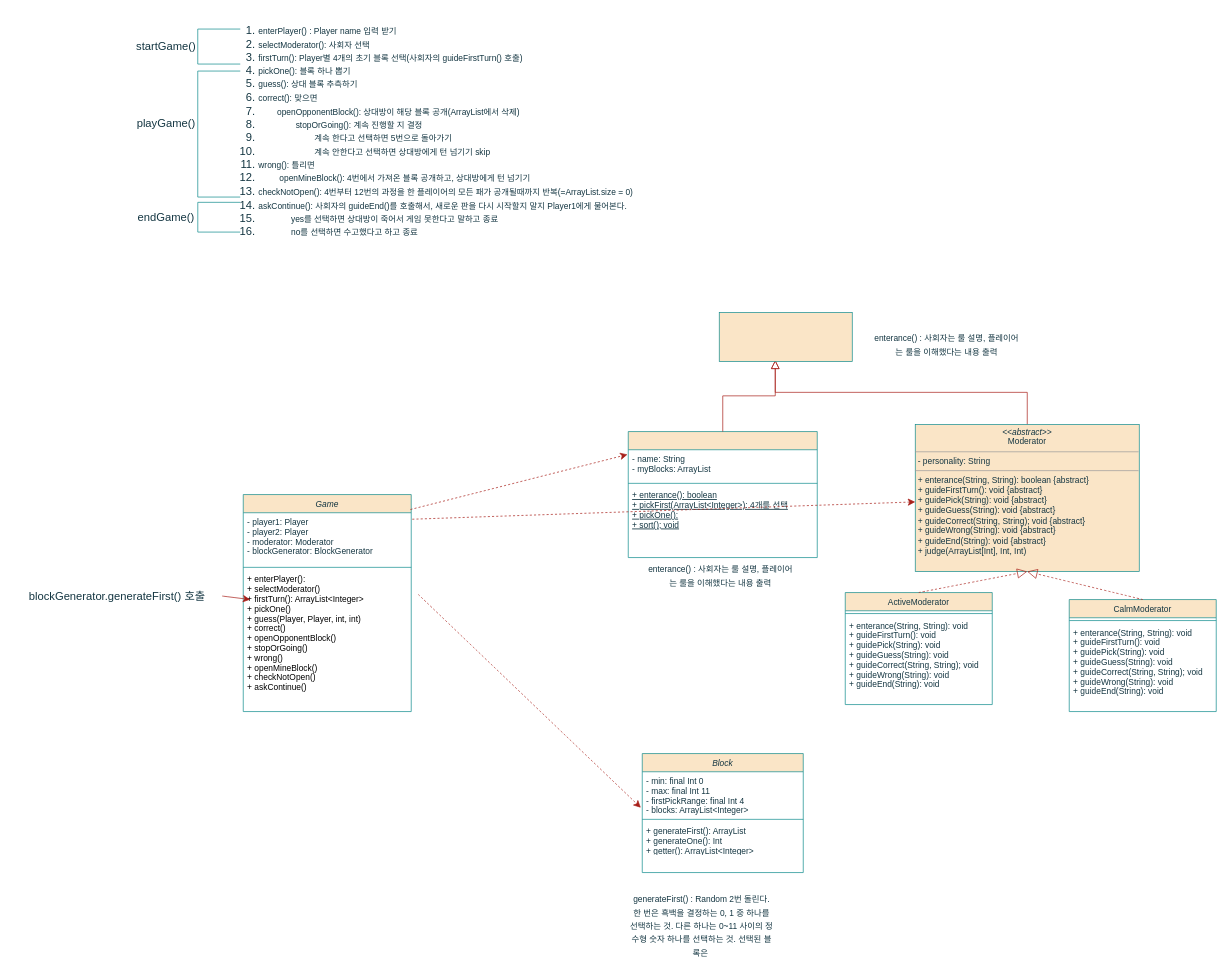
Image size: 1229x970. Some labels were removed from this diagram. The shapes that lost their labels are listed below. From the top down, each one's box as (x1, y1, x2, y2) in pixels, then its label:
(719, 312, 852, 362): <<Interface>> Person + enterance(): boolean
(628, 431, 817, 558): Player
